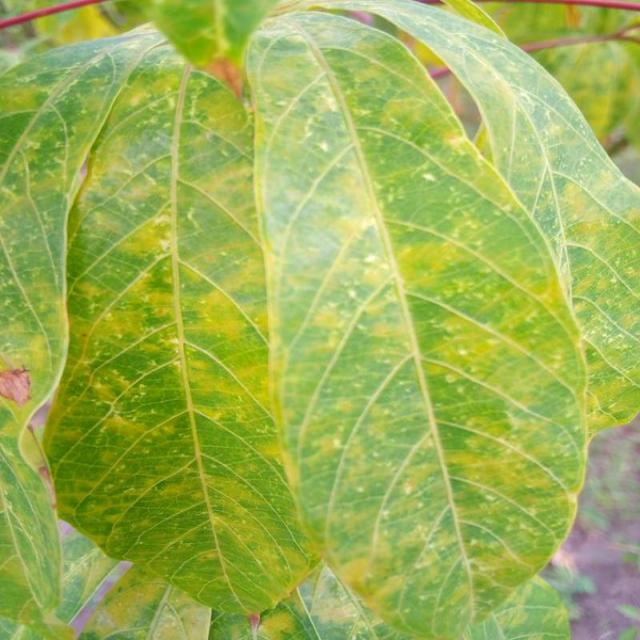cassava leaf: (1, 1, 638, 638), (2, 20, 321, 626)
